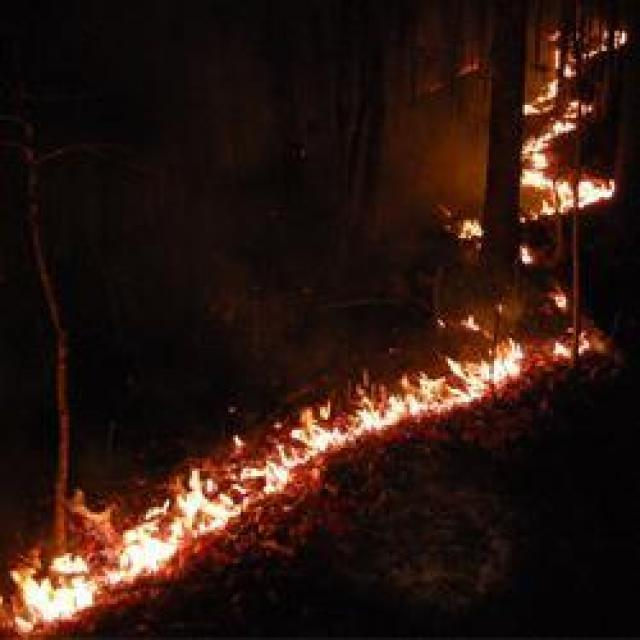Fire: (9, 314, 604, 632), (500, 10, 628, 246)
